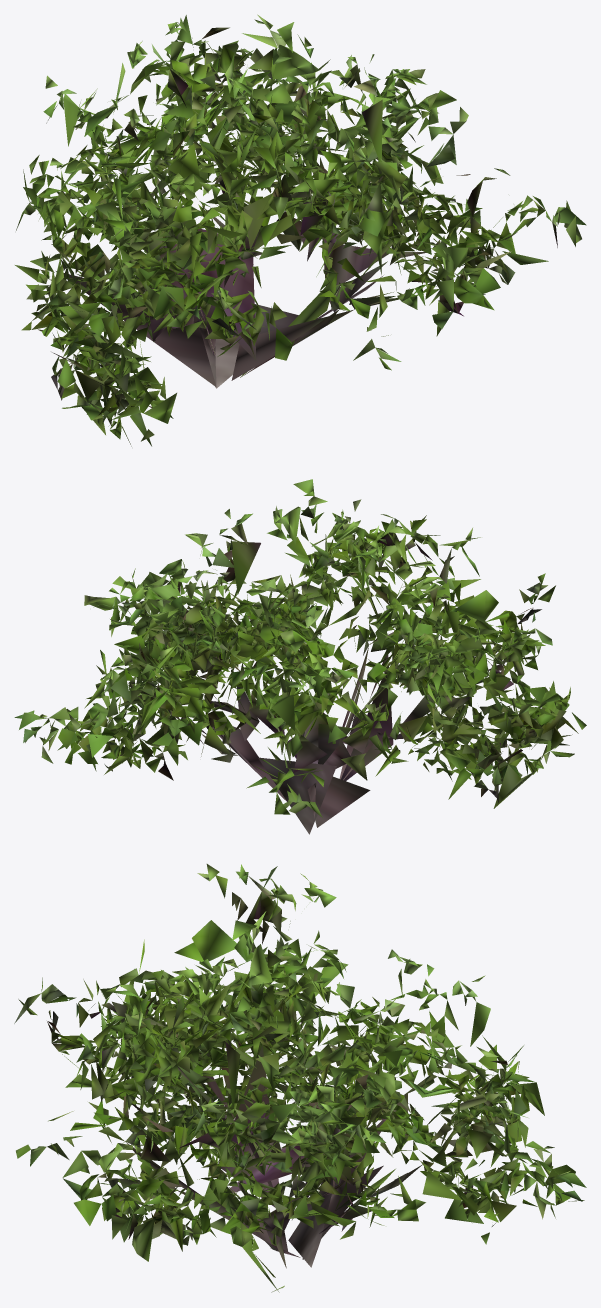
Rendered from meshy-tree-m1.glb.
3 views of the same model, one above another, from view 1: azimuth 30°, elevation 25°; view 2: azimuth 150°, elevation 25°; view 3: azimuth 270°, elevation 25° (orthographic). The views are drawn at different scales.
Parts seen in each view (by area): view 1: Mesh_0; view 2: Mesh_0; view 3: Mesh_0.
Boxes of the visible parts, x1,y1,x2,y2 form: Mesh_0: (15, 14, 586, 446); Mesh_0: (14, 479, 586, 834); Mesh_0: (14, 864, 586, 1292).
Size of the model in its own units: 1.87 by 1.31 by 1.87.
1 material, 1 textured.
